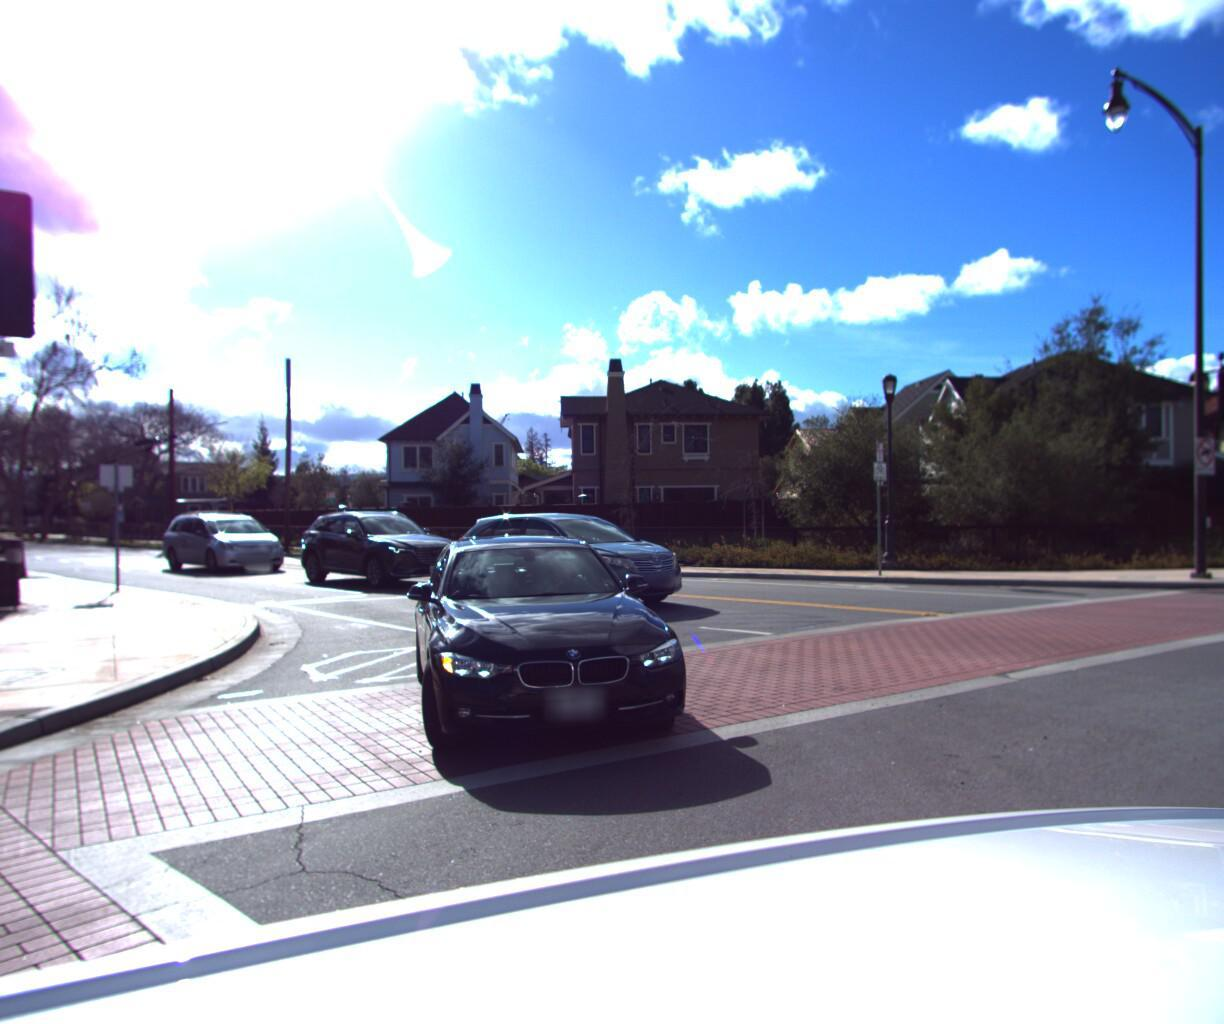car: (399, 508, 743, 790), (437, 504, 715, 612), (284, 498, 483, 589), (159, 504, 295, 573)
